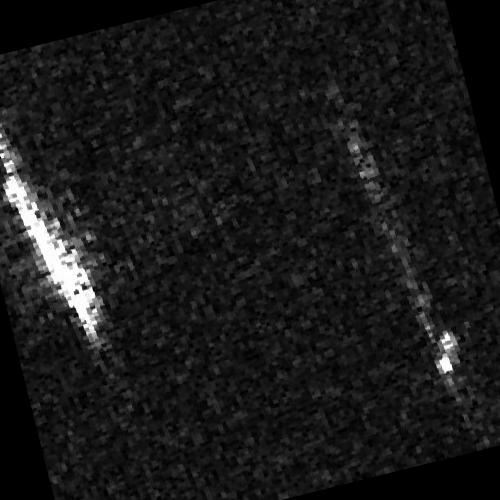ship: (346, 121, 460, 381), (2, 170, 99, 341)
